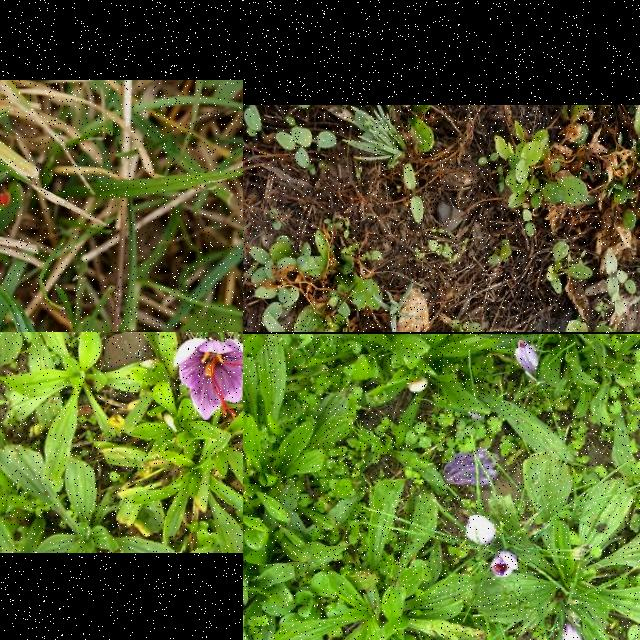flower: (174, 339, 243, 421), (467, 516, 495, 546), (516, 340, 540, 372), (492, 552, 520, 578), (563, 624, 584, 640)
